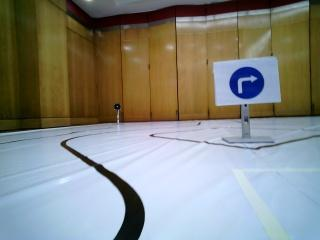right: (215, 62, 278, 102)
